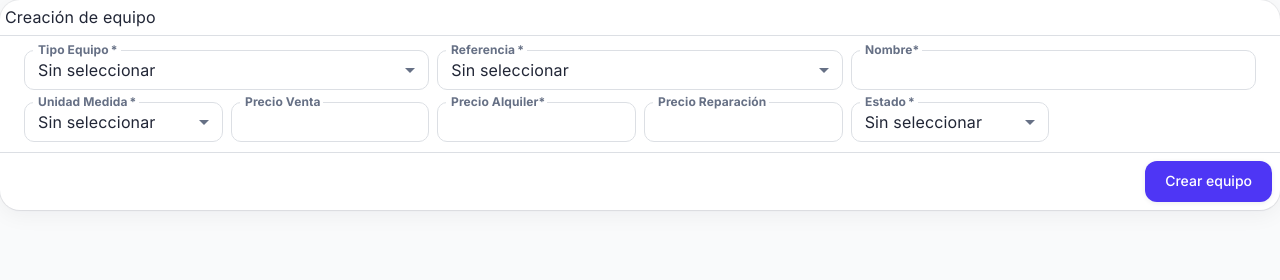
Test case: FormularioCrearEquipo › equipo propio: bodegas de alquiler, propietario la empresa y sin selector de propietario
What coordinates should you click on to do the following:
click the dropdown labelled "Sin seleccionar" next to "Tipo Equipo"
I would click on:
 (97, 70)
Its box is [38,60,156,80].
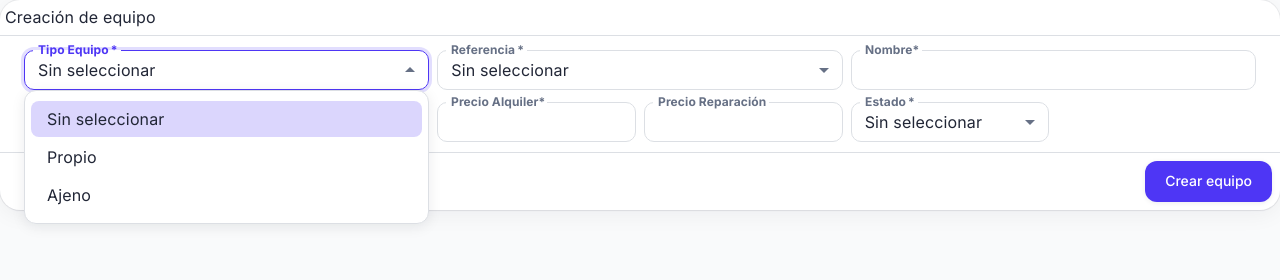
What coordinates should you click on to do the following:
click the option "Propio"
I would click on:
 (72, 157)
Its box is [47,147,97,167].
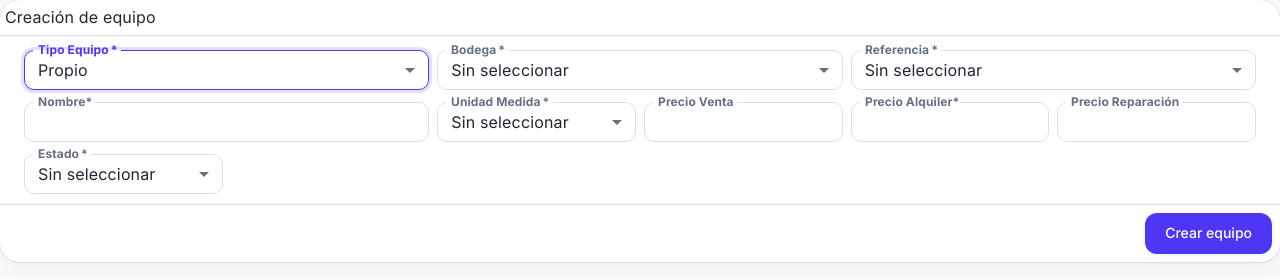
Expected: the list is gone
